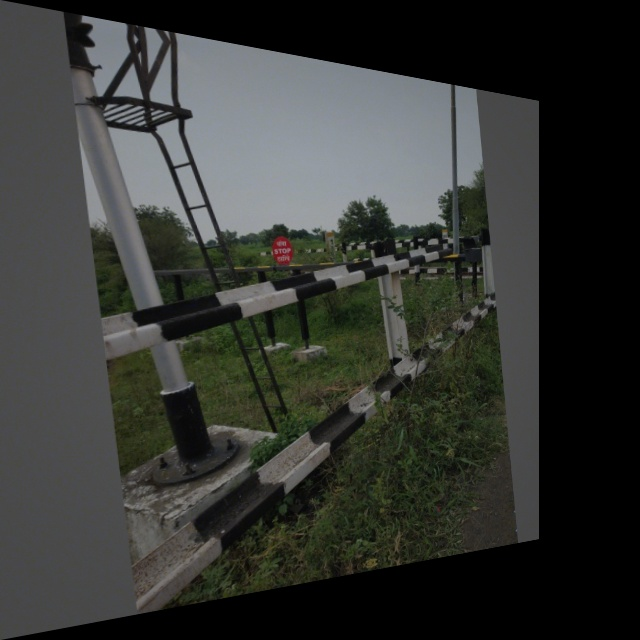Stop: (270, 234, 294, 266)
